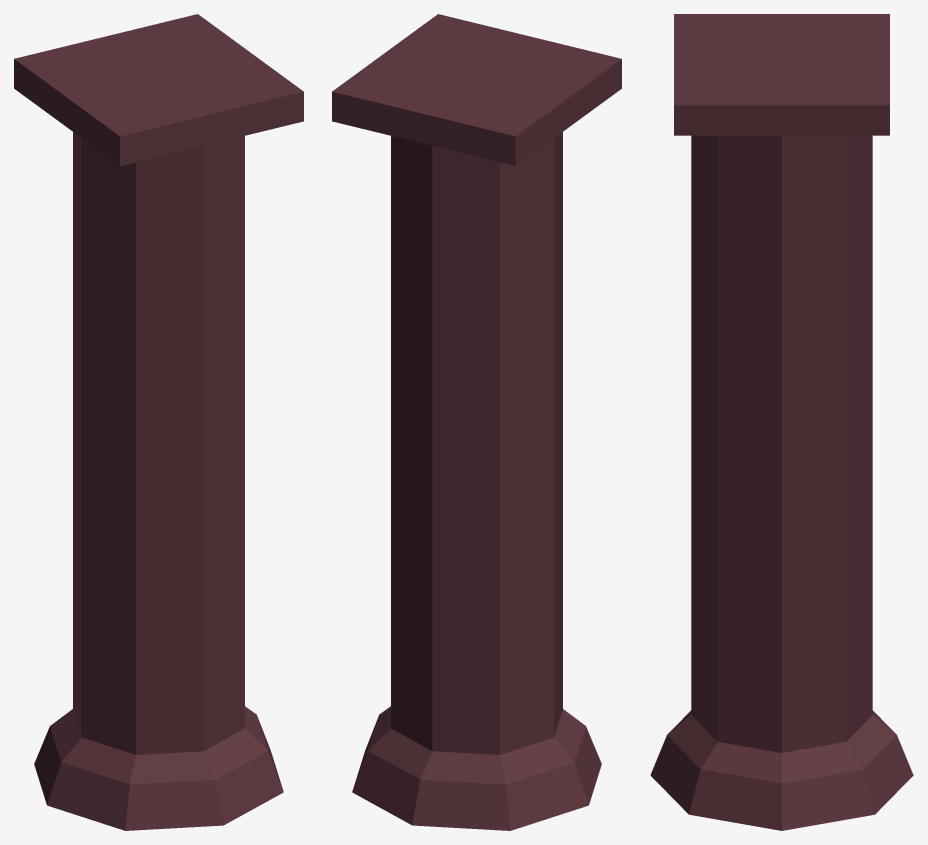
The model's file is egypt-egypt-pillar-proto-doric.glb.
3 views of the same model, side by side, from view 1: azimuth 30°, elevation 25°; view 2: azimuth 150°, elevation 25°; view 3: azimuth 270°, elevation 25° (orthographic).
Parts seen in each view (by area): view 1: pillar-proto-doric; view 2: pillar-proto-doric; view 3: pillar-proto-doric.
Boxes of the visible parts, x1,y1,x2,y2 form: pillar-proto-doric: (14, 14, 303, 830); pillar-proto-doric: (332, 14, 621, 830); pillar-proto-doric: (650, 14, 913, 830).
Bounding box in the file's own units: 3 × 9 × 3.
